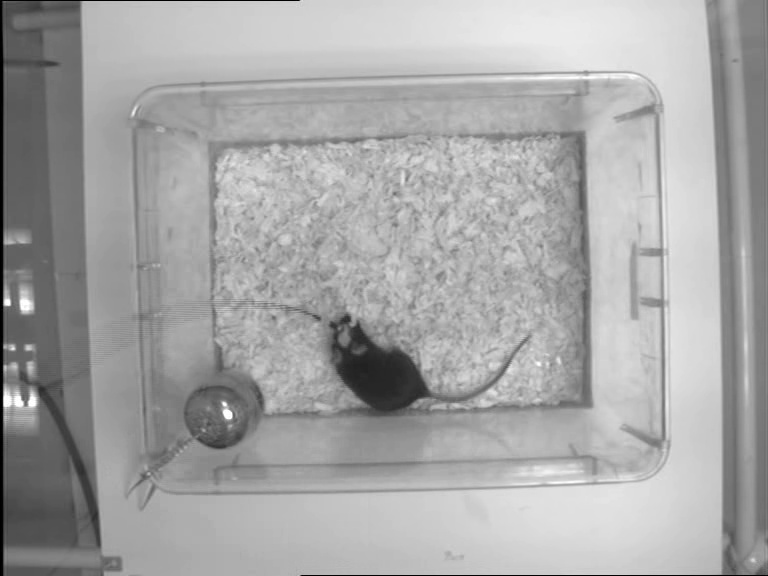mice: (325, 311, 535, 419)
